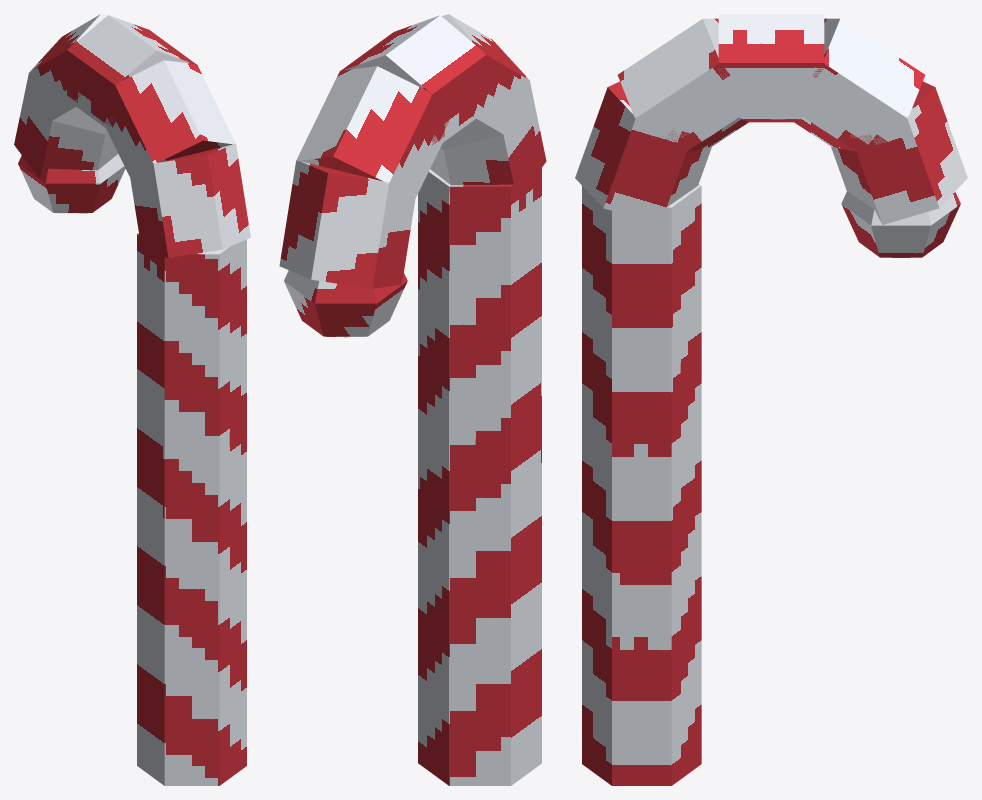
Rendered from candy_cane.glb.
3 renders of one model, left to right at view 1: azimuth 30°, elevation 25°; view 2: azimuth 150°, elevation 25°; view 3: azimuth 270°, elevation 25°, orthographic. The views are drawn at different scales.
Visible parts, largest first — view 1: candy_cane; view 2: candy_cane; view 3: candy_cane.
Part boxes in pixels (x1=…): candy_cane: x1=14, y1=14, x2=250, y2=785; candy_cane: x1=279, y1=14, x2=546, y2=785; candy_cane: x1=575, y1=14, x2=967, y2=785.
Size of the model in its own units: 0.1039 by 0.83 by 0.3941.
1 material, 1 textured.
